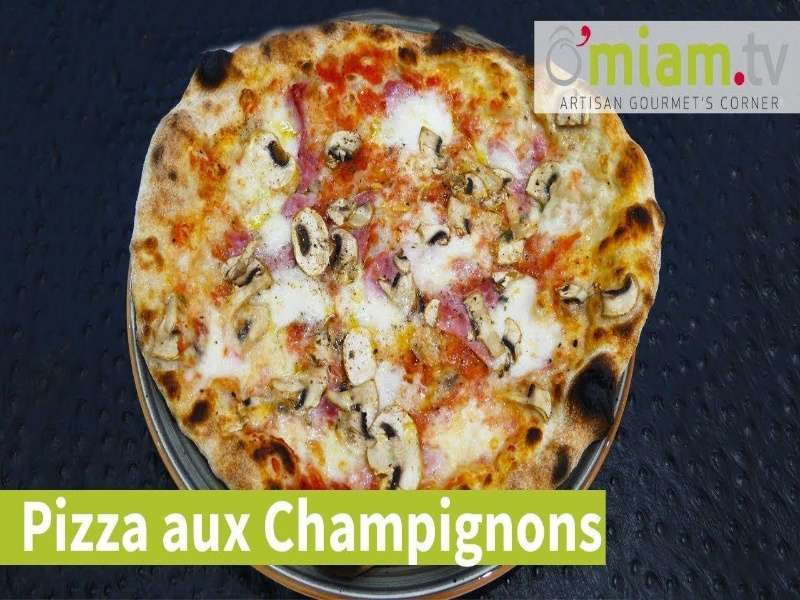champignon: (360, 403, 433, 488), (285, 208, 336, 280), (247, 129, 296, 192), (599, 270, 644, 325), (524, 156, 571, 203)
